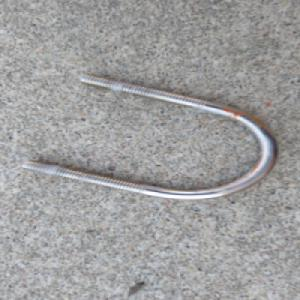ClampPart: (21, 71, 280, 201)
